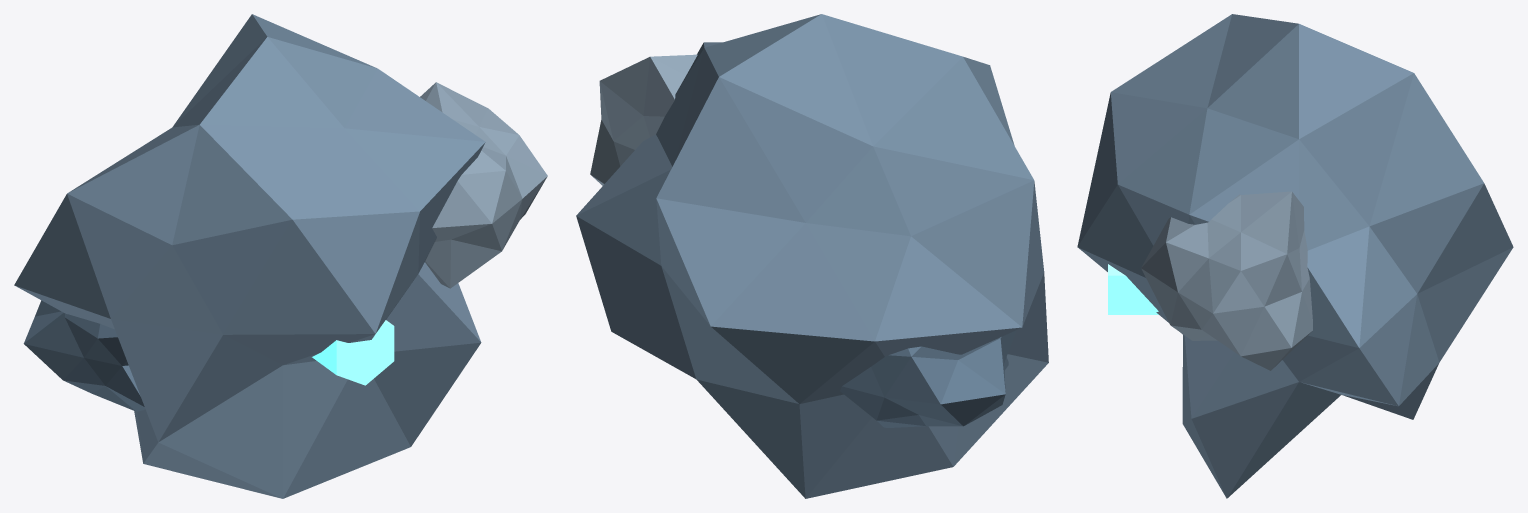
The model's file is asteroid_2.glb.
The picture shows the model from 3 angles, left to right: view 1: azimuth 30°, elevation 25°; view 2: azimuth 150°, elevation 25°; view 3: azimuth 270°, elevation 25°; orthographic projection. The views are drawn at different scales.
Parts seen in each view (by area): view 1: asteroid | main mass, asteroid | satellite shard, asteroid | trailing fragment, asteroid | exposed crystal; view 2: asteroid | main mass, asteroid | trailing fragment, asteroid | satellite shard; view 3: asteroid | main mass, asteroid | satellite shard, asteroid | exposed crystal.
Part boxes in pixels (x1,y1,x2,y2): asteroid | main mass: [14, 14, 485, 498]; asteroid | satellite shard: [420, 82, 547, 288]; asteroid | trailing fragment: [23, 300, 145, 411]; asteroid | exposed crystal: [312, 320, 394, 385]; asteroid | main mass: [576, 14, 1048, 498]; asteroid | trailing fragment: [840, 330, 1016, 427]; asteroid | satellite shard: [590, 54, 697, 185]; asteroid | main mass: [1077, 14, 1513, 498]; asteroid | satellite shard: [1141, 191, 1312, 370]; asteroid | exposed crystal: [1108, 264, 1158, 314].
Bounding box in the file's own units: 4.67 × 3.99 × 3.75.
